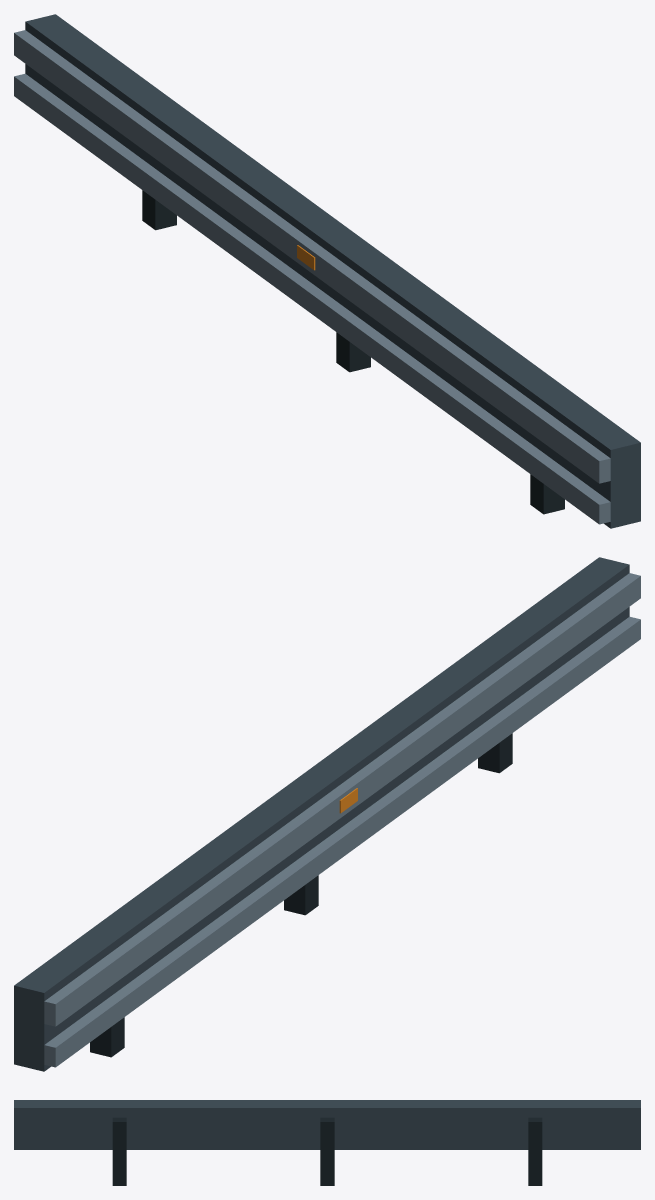
File: CrestGuardrail.obj
3 renders of one model, top to bottom at view 1: azimuth 30°, elevation 25°; view 2: azimuth 150°, elevation 25°; view 3: azimuth 270°, elevation 25°, orthographic. The views are drawn at different scales.
Size of the model in its own units: 0.438 by 0.98 by 7.54.
